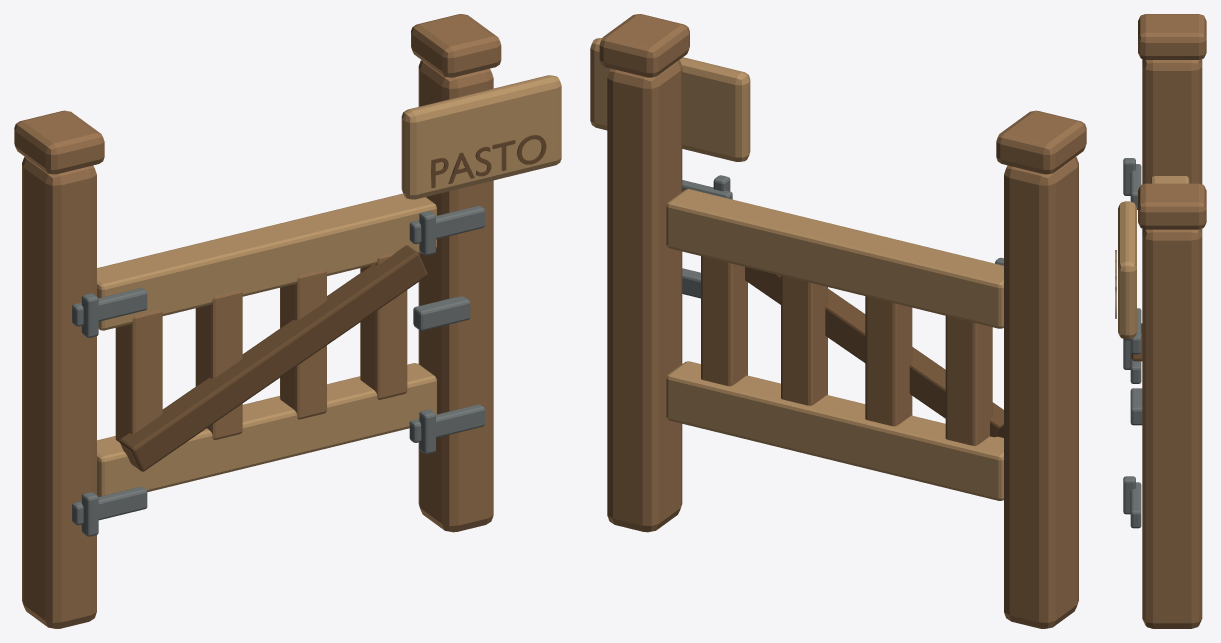
File: porteira_fechada.glb
The picture shows the model from 3 angles, left to right: view 1: azimuth 30°, elevation 25°; view 2: azimuth 150°, elevation 25°; view 3: azimuth 270°, elevation 25°; orthographic projection. The views are drawn at different scales.
Parts seen in each view (by area): view 1: porteira_fechada | Madeira de carvalho, porteira_fechada | Tábuas de madeira, porteira_fechada | Veios escuros, porteira_fechada | Ferro envelhecido; view 2: porteira_fechada | Madeira de carvalho, porteira_fechada | Tábuas de madeira, porteira_fechada | Veios escuros, porteira_fechada | Ferro envelhecido; view 3: porteira_fechada | Madeira de carvalho, porteira_fechada | Ferro envelhecido, porteira_fechada | Tábuas de madeira, porteira_fechada | Veios escuros.
Boxes of the visible parts, box(x1,y1,x2,y2) form: porteira_fechada | Madeira de carvalho: box(14, 14, 501, 628); porteira_fechada | Tábuas de madeira: box(97, 75, 561, 496); porteira_fechada | Veios escuros: box(119, 135, 546, 471); porteira_fechada | Ferro envelhecido: box(72, 205, 484, 536); porteira_fechada | Madeira de carvalho: box(599, 14, 1086, 628); porteira_fechada | Tábuas de madeira: box(590, 38, 1003, 500); porteira_fechada | Veios escuros: box(745, 267, 1003, 437); porteira_fechada | Ferro envelhecido: box(682, 175, 1003, 298); porteira_fechada | Madeira de carvalho: box(1138, 14, 1206, 628); porteira_fechada | Ferro envelhecido: box(1123, 158, 1142, 528); porteira_fechada | Tábuas de madeira: box(1118, 176, 1189, 339); porteira_fechada | Veios escuros: box(1115, 250, 1142, 361).
Bounding box in the file's own units: 1.19 × 1.11 × 0.214.
